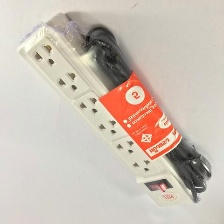three_eye_plug: (15, 11, 200, 210)
